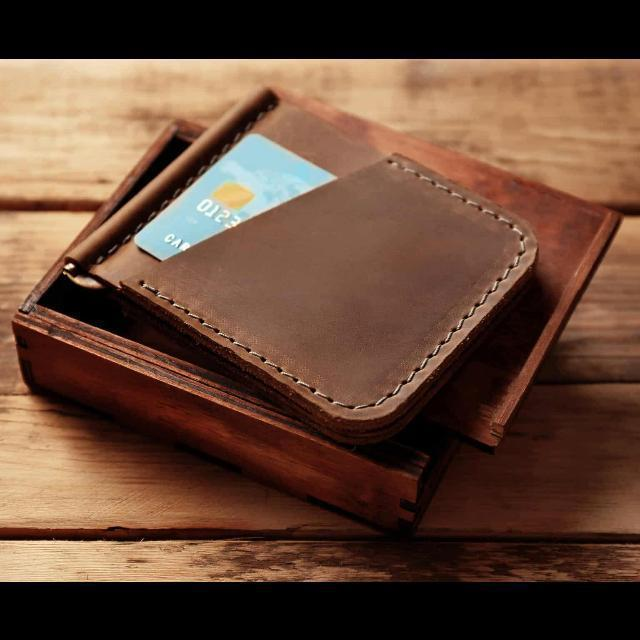wallet: (70, 84, 540, 422)
